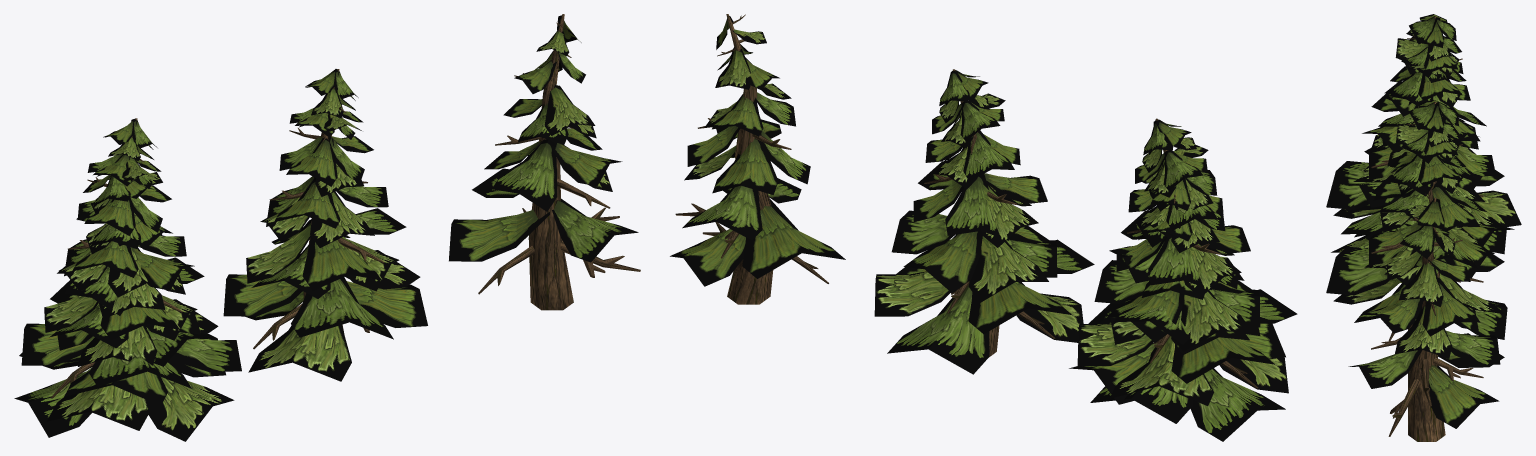
3 views of the same model, side by side, from view 1: azimuth 30°, elevation 25°; view 2: azimuth 150°, elevation 25°; view 3: azimuth 270°, elevation 25° (orthographic). The views are drawn at different scales.
Visible parts, largest first — view 1: Leaves_03, Leaves_02, Leaves_01, trunk_01, trunk_02; view 2: Leaves_03, Leaves_02, Leaves_01, trunk_01, trunk_02, trunk_03; view 3: Leaves_02, Leaves_03, Leaves_01, trunk_01, trunk_02.
Boxes of the visible parts, <box> form: Leaves_03: <box>14,118,241,441</box>; Leaves_02: <box>223,69,427,381</box>; Leaves_01: <box>449,15,638,262</box>; trunk_01: <box>478,14,640,310</box>; trunk_02: <box>253,69,384,349</box>; Leaves_03: <box>1069,119,1297,441</box>; Leaves_02: <box>874,70,1094,374</box>; Leaves_01: <box>670,16,845,286</box>; trunk_01: <box>675,14,828,304</box>; trunk_02: <box>924,69,1055,357</box>; trunk_03: <box>1127,118,1258,388</box>; Leaves_02: <box>1326,99,1507,339</box>; Leaves_03: <box>1326,14,1521,254</box>; Leaves_01: <box>1348,198,1504,428</box>; trunk_01: <box>1371,194,1483,441</box>; trunk_02: <box>1371,102,1483,341</box>.
Size of the model in its own units: 16.29 by 7.31 by 5.31.
Materials: 2 (2 with a texture image).
